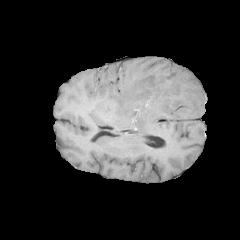glioma: (106, 67, 201, 135)
